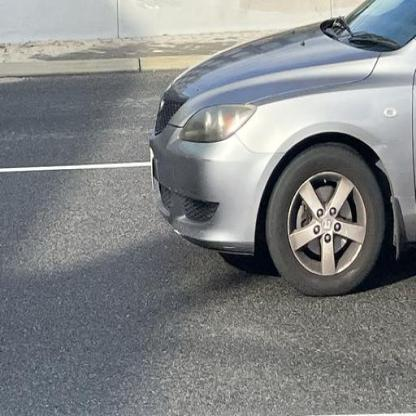Tire: (266, 142, 384, 296)
